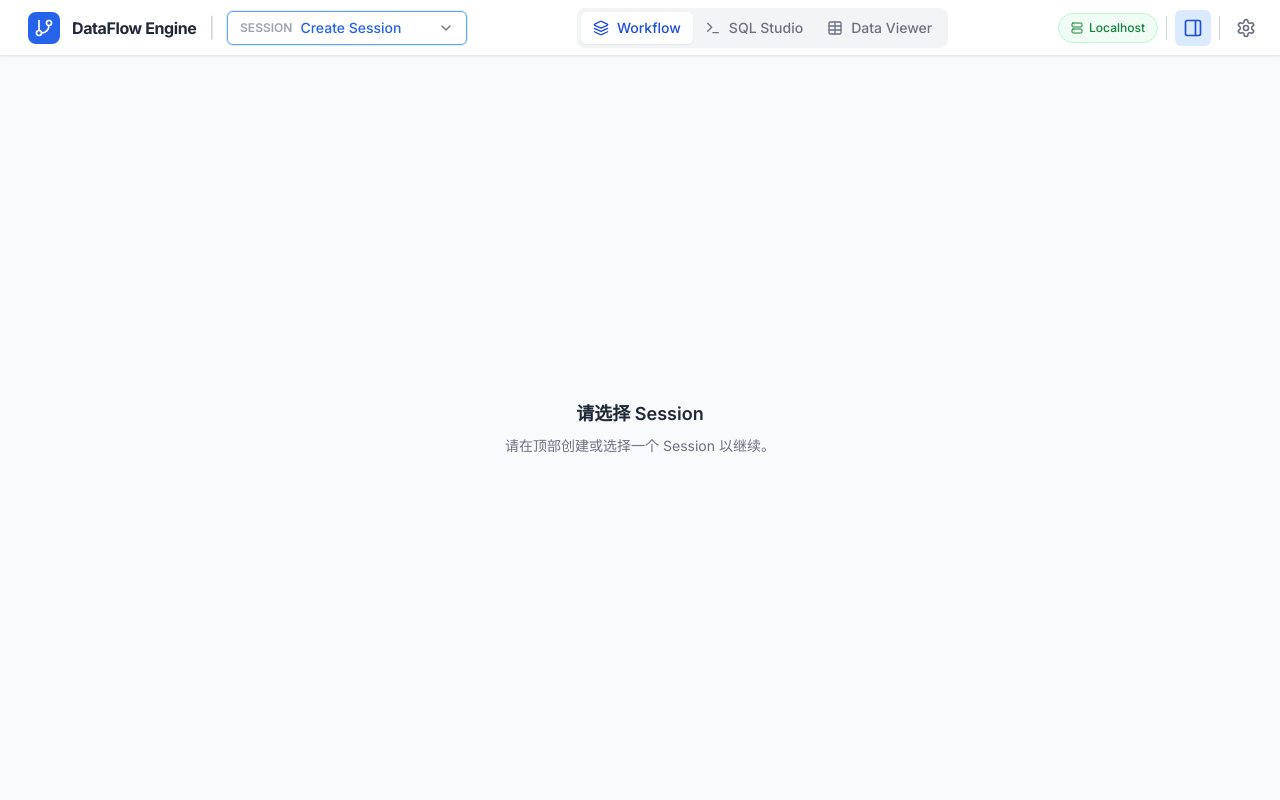
Test: Session diagnostics (UI) › shows error message when diagnostics request fails
Click the button "Session Create Session" at {"x": 347, "y": 28}, box x1=227 y1=10 x2=467 y2=44
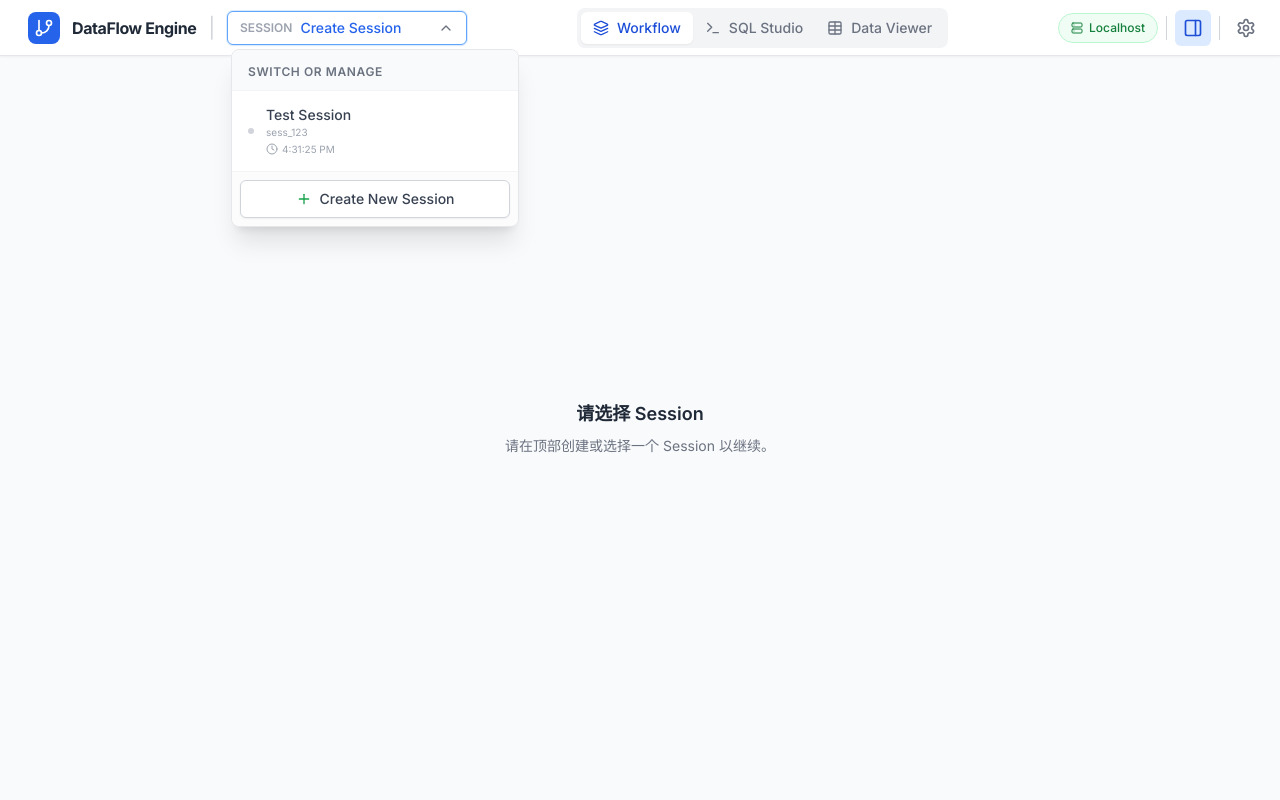
Click the text "Test Session" at {"x": 309, "y": 114}, box x1=266 y1=104 x2=351 y2=124
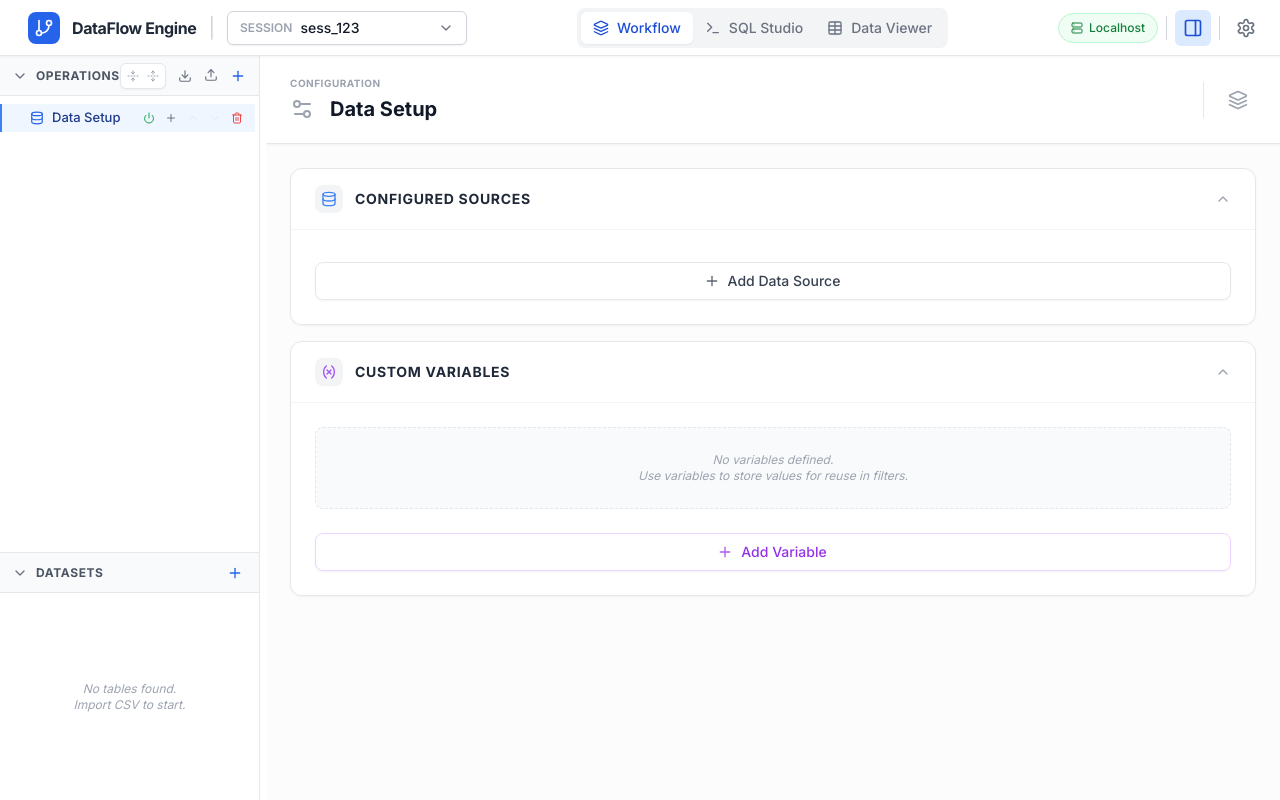
Click the button "Session sess_123" at {"x": 347, "y": 28}, box x1=227 y1=10 x2=467 y2=44
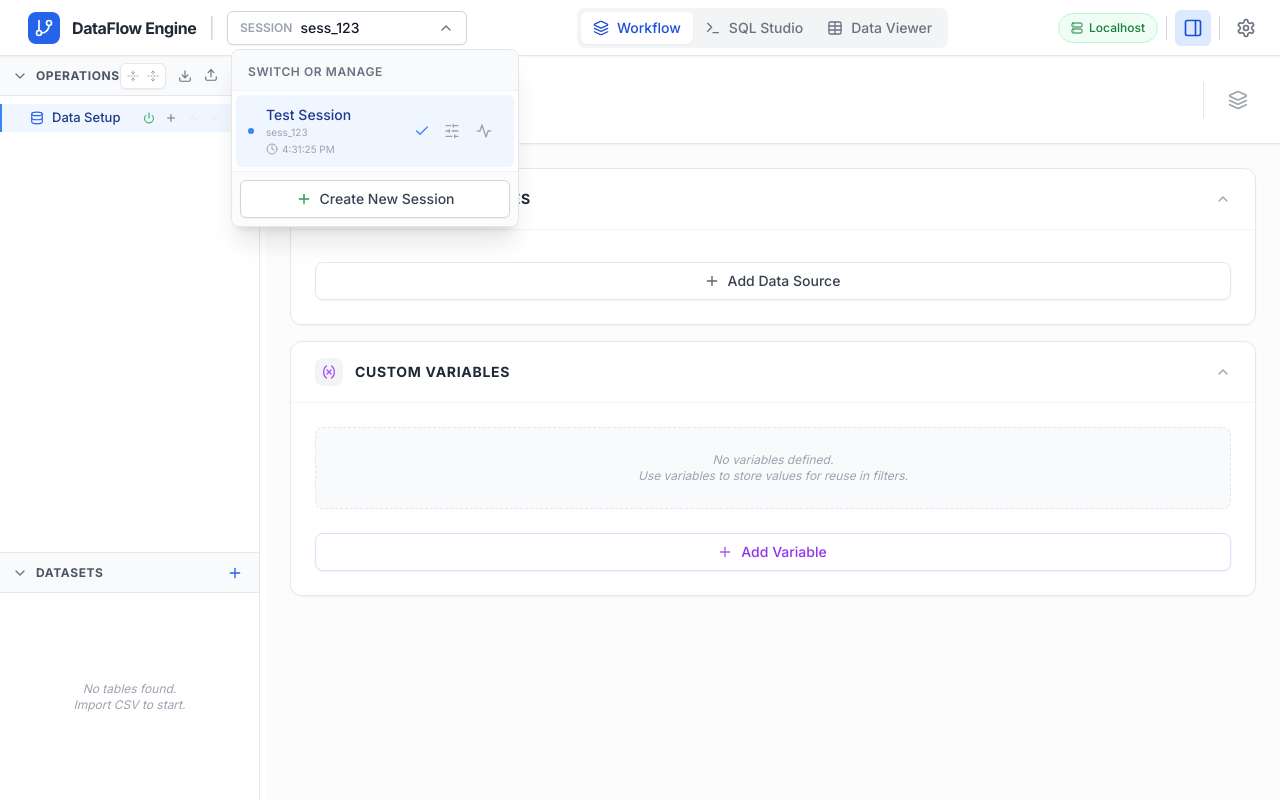
Click the button titled "Session Diagnostics" at {"x": 484, "y": 130}, box x1=470 y1=116 x2=498 y2=144
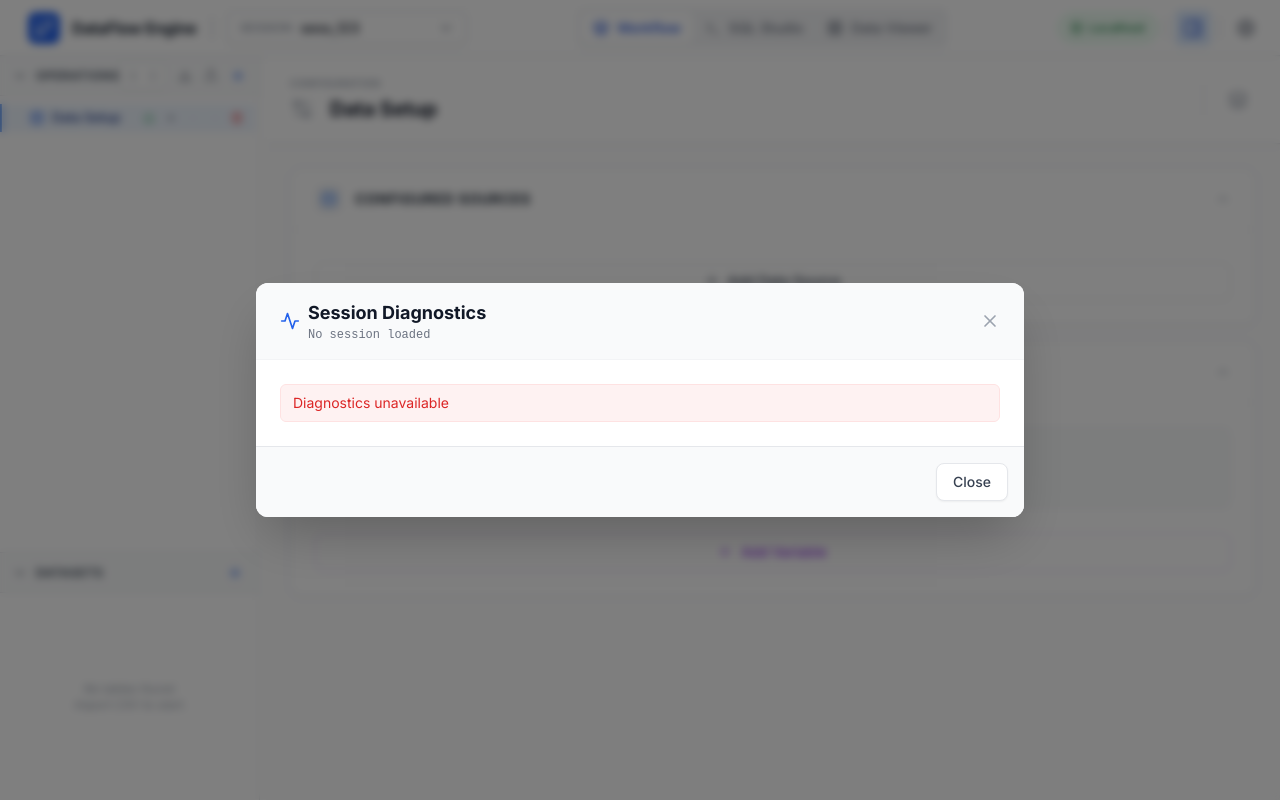
Check: the text "Diagnostics unavailable" is shown, box x1=280 y1=384 x2=1000 y2=422
